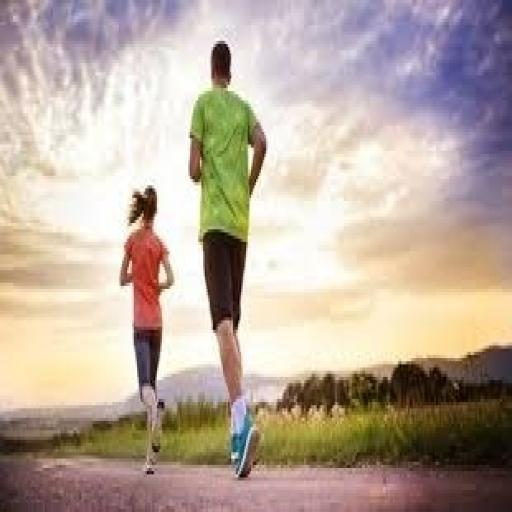running: (187, 38, 269, 484), (117, 179, 177, 481)
